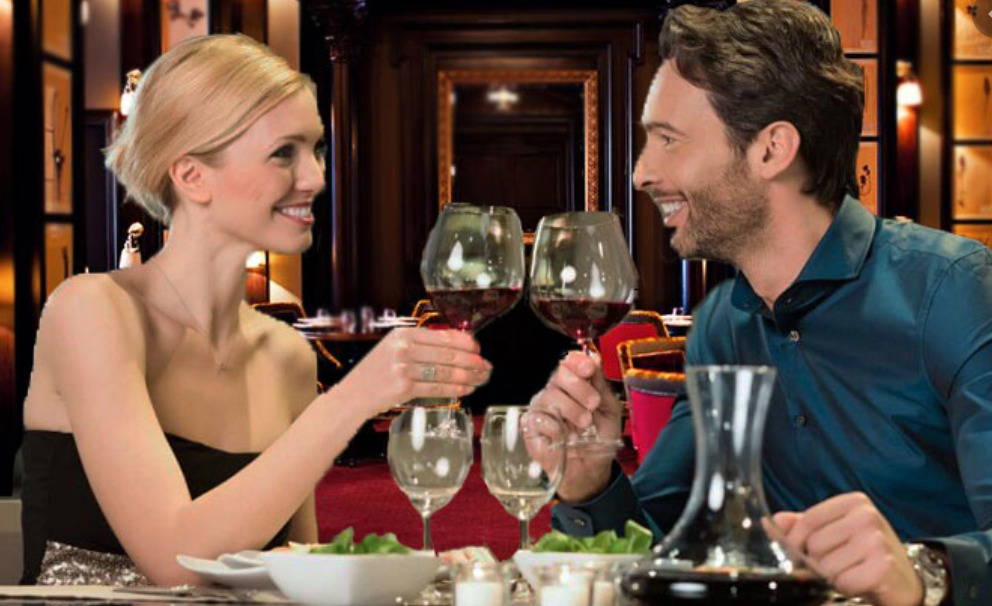Bad: (22, 1, 992, 399)
